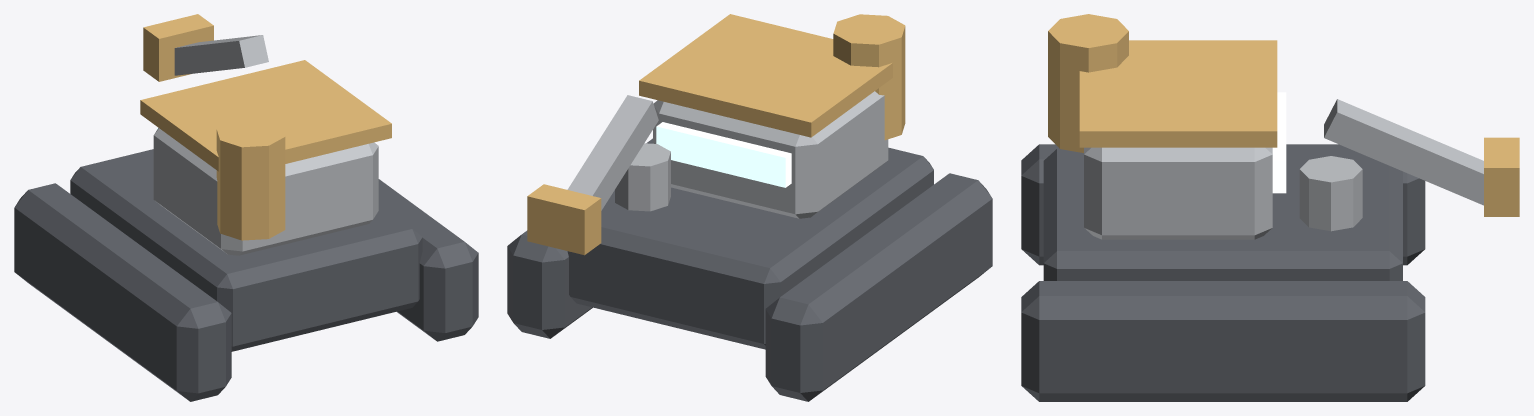
Rendered from engineer-Bqk2JFcm.glb.
The picture shows the model from 3 angles, left to right: view 1: azimuth 30°, elevation 25°; view 2: azimuth 150°, elevation 25°; view 3: azimuth 270°, elevation 25°; orthographic projection. The views are drawn at different scales.
Parts seen in each view (by area): view 1: chassis; view 2: chassis; view 3: chassis.
Part boxes in pixels (x1,y1,x2,y2): chassis: (14, 14, 478, 401); chassis: (507, 14, 992, 401); chassis: (1021, 14, 1519, 401).
Size of the model in its own units: 0.4757 by 0.3514 by 0.6.
